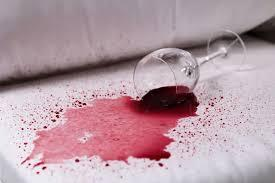oil: (36, 99, 197, 173)
